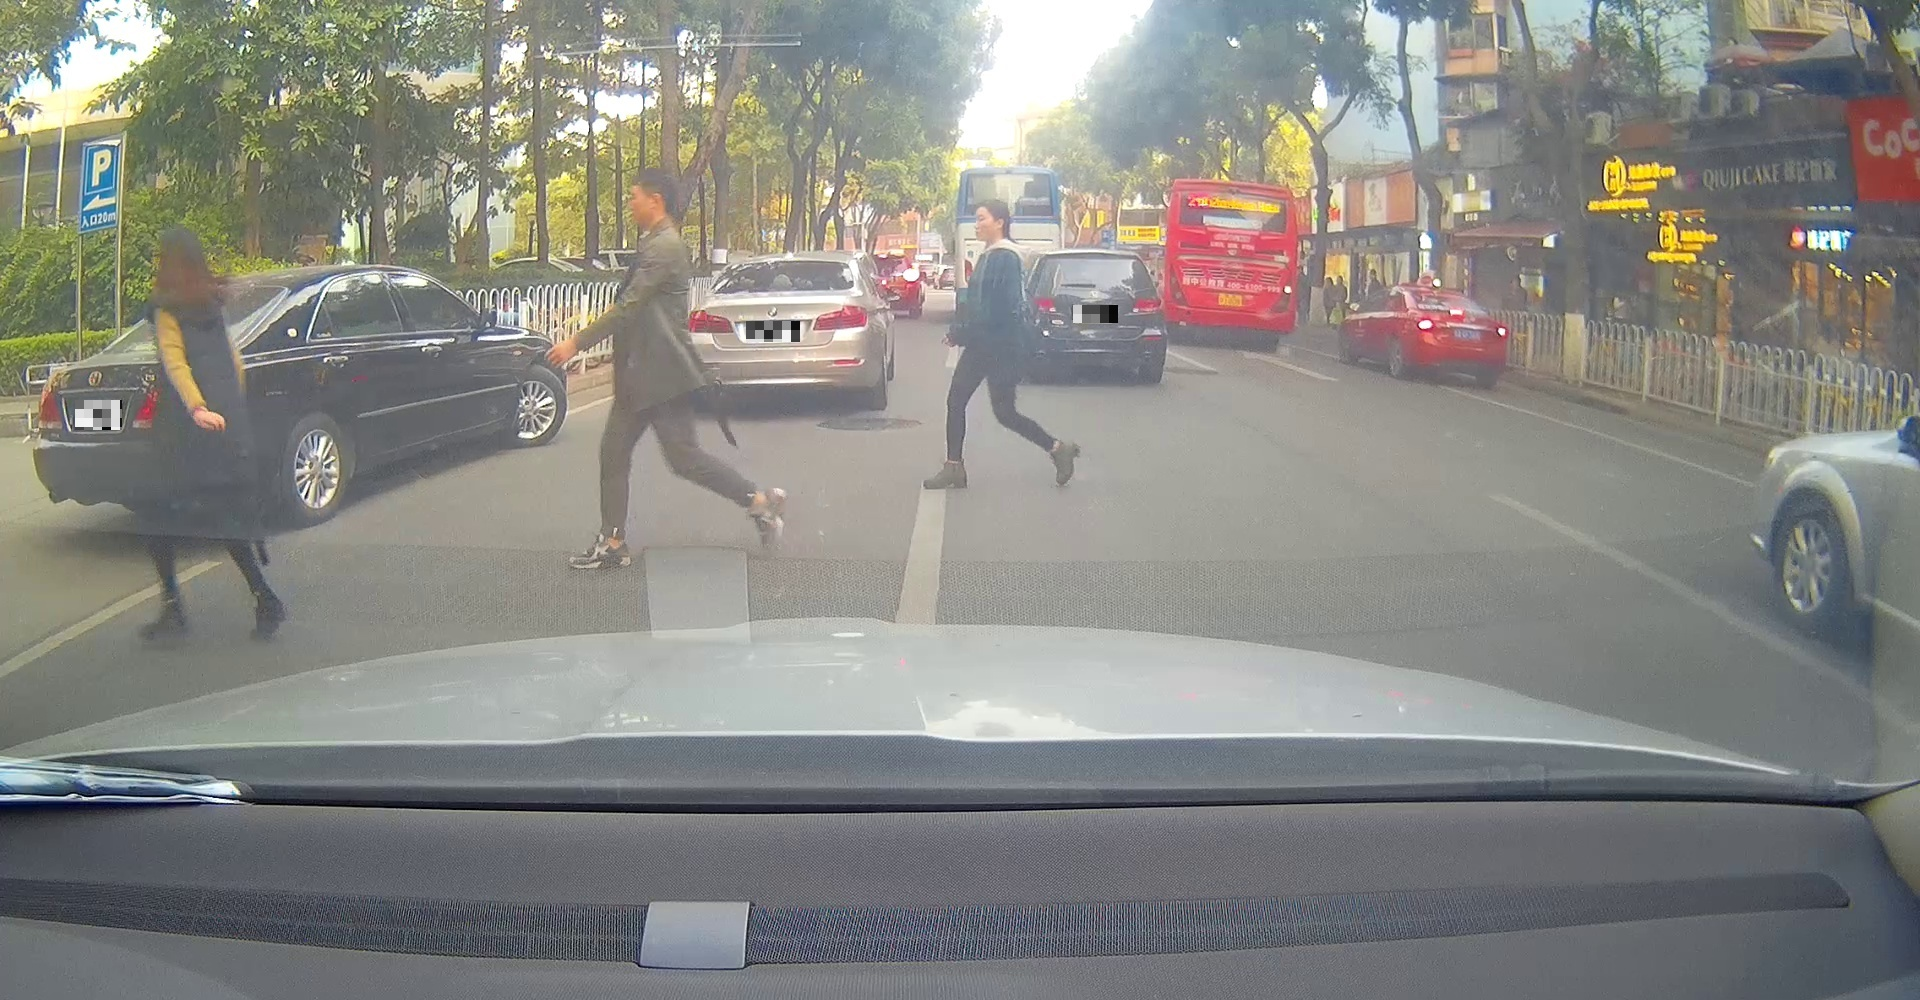L_light: (687, 308, 733, 332), (37, 386, 61, 423), (1168, 264, 1189, 307), (1030, 296, 1055, 312), (1415, 317, 1436, 331)
R_light: (813, 305, 869, 331), (135, 386, 170, 421), (1270, 278, 1293, 313), (1133, 298, 1161, 312), (1495, 325, 1507, 339)
T_light: (1225, 193, 1251, 202), (211, 289, 237, 297), (1448, 308, 1464, 319), (775, 261, 797, 268), (1082, 255, 1102, 261)
day-brake: (1404, 286, 1509, 388)
day-no: (33, 274, 295, 530), (684, 253, 872, 409), (1026, 250, 1167, 382)
day-right: (1164, 178, 1298, 353)
plate_1: (75, 400, 122, 430)
plate_2: (745, 321, 800, 341)
plate_3: (1073, 305, 1117, 324)
